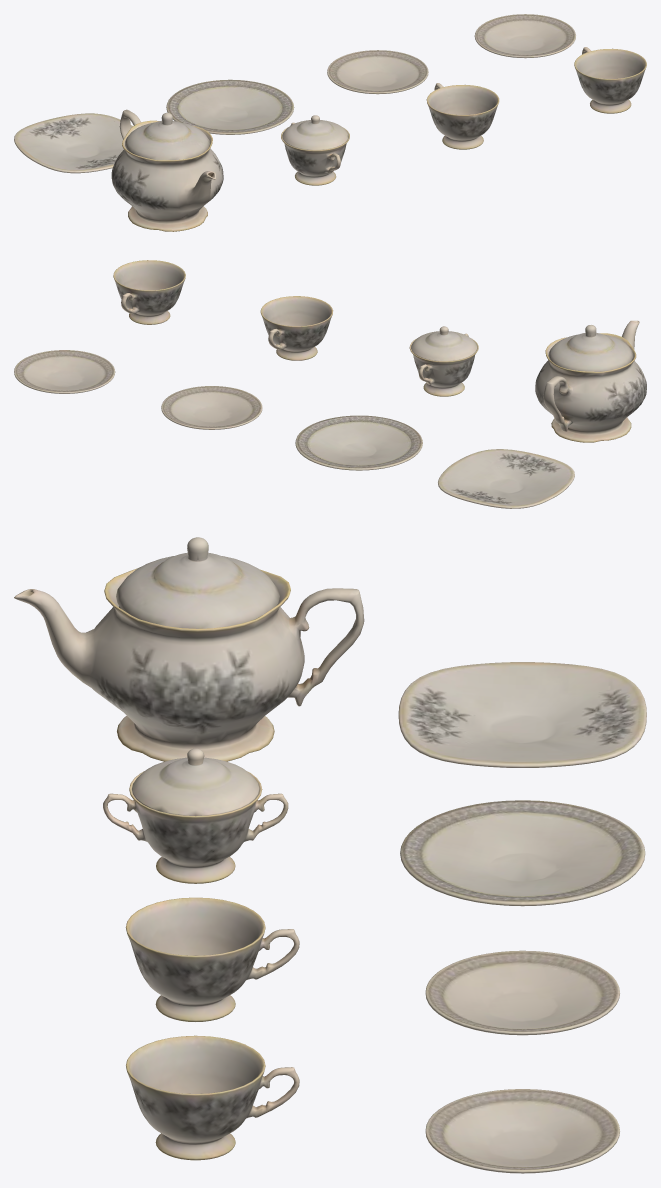
Rendered from tea_set_01.glb.
3 renders of one model, top to bottom at view 1: azimuth 30°, elevation 25°; view 2: azimuth 150°, elevation 25°; view 3: azimuth 270°, elevation 25°, orthographic. The views are drawn at different scales.
Parts seen in each view (by area): view 1: tea_set_01_teapot_01, tea_set_01_plate_large_circular_03, tea_set_01_plate_large_square_01, tea_set_01_cup_small_01, tea_set_01_cup_small_02, tea_set_01_saucer_circular_03, tea_set_01_saucer_circular_04, tea_set_01_teapot_01_lid, tea_set_01_sugar_cup_01, tea_set_01_sugar_cup_01_lid; view 2: tea_set_01_teapot_01, tea_set_01_plate_large_square_01, tea_set_01_plate_large_circular_03, tea_set_01_cup_small_01, tea_set_01_cup_small_02, tea_set_01_saucer_circular_04, tea_set_01_saucer_circular_03, tea_set_01_teapot_01_lid, tea_set_01_sugar_cup_01, tea_set_01_sugar_cup_01_lid; view 3: tea_set_01_teapot_01, tea_set_01_plate_large_square_01, tea_set_01_plate_large_circular_03, tea_set_01_cup_small_01, tea_set_01_cup_small_02, tea_set_01_saucer_circular_03, tea_set_01_saucer_circular_04, tea_set_01_teapot_01_lid, tea_set_01_sugar_cup_01, tea_set_01_sugar_cup_01_lid.
Boxes of the visible parts, left/top/right/bottom form: tea_set_01_teapot_01: left=111, top=109, right=223, bottom=231; tea_set_01_plate_large_circular_03: left=166, top=79, right=294, bottom=134; tea_set_01_plate_large_square_01: left=14, top=113, right=133, bottom=173; tea_set_01_cup_small_01: left=426, top=83, right=499, bottom=149; tea_set_01_cup_small_02: left=574, top=47, right=646, bottom=113; tea_set_01_saucer_circular_03: left=474, top=14, right=575, bottom=58; tea_set_01_saucer_circular_04: left=327, top=50, right=428, bottom=94; tea_set_01_teapot_01_lid: left=125, top=112, right=209, bottom=160; tea_set_01_sugar_cup_01: left=281, top=122, right=349, bottom=185; tea_set_01_sugar_cup_01_lid: left=282, top=115, right=348, bottom=150; tea_set_01_teapot_01: left=535, top=320, right=646, bottom=442; tea_set_01_plate_large_square_01: left=438, top=449, right=574, bottom=508; tea_set_01_plate_large_circular_03: left=295, top=415, right=422, bottom=470; tea_set_01_cup_small_01: left=260, top=296, right=333, bottom=360; tea_set_01_cup_small_02: left=113, top=260, right=185, bottom=324; tea_set_01_saucer_circular_04: left=161, top=386, right=262, bottom=429; tea_set_01_saucer_circular_03: left=14, top=350, right=115, bottom=393; tea_set_01_teapot_01_lid: left=548, top=325, right=633, bottom=371; tea_set_01_sugar_cup_01: left=409, top=333, right=478, bottom=396; tea_set_01_sugar_cup_01_lid: left=411, top=326, right=477, bottom=361; tea_set_01_teapot_01: left=14, top=568, right=364, bottom=761; tea_set_01_plate_large_square_01: left=398, top=662, right=646, bottom=767; tea_set_01_plate_large_circular_03: left=400, top=800, right=645, bottom=906; tea_set_01_cup_small_01: left=125, top=897, right=299, bottom=1021; tea_set_01_cup_small_02: left=126, top=1035, right=299, bottom=1160; tea_set_01_saucer_circular_03: left=425, top=1089, right=619, bottom=1173; tea_set_01_saucer_circular_04: left=425, top=950, right=619, bottom=1035; tea_set_01_teapot_01_lid: left=116, top=537, right=279, bottom=628; tea_set_01_sugar_cup_01: left=103, top=771, right=288, bottom=883; tea_set_01_sugar_cup_01_lid: left=131, top=748, right=259, bottom=816.
Bounding box in the file's own units: 0.9185 × 0.165 × 0.4839.
Materials: 1 (1 with a texture image).
